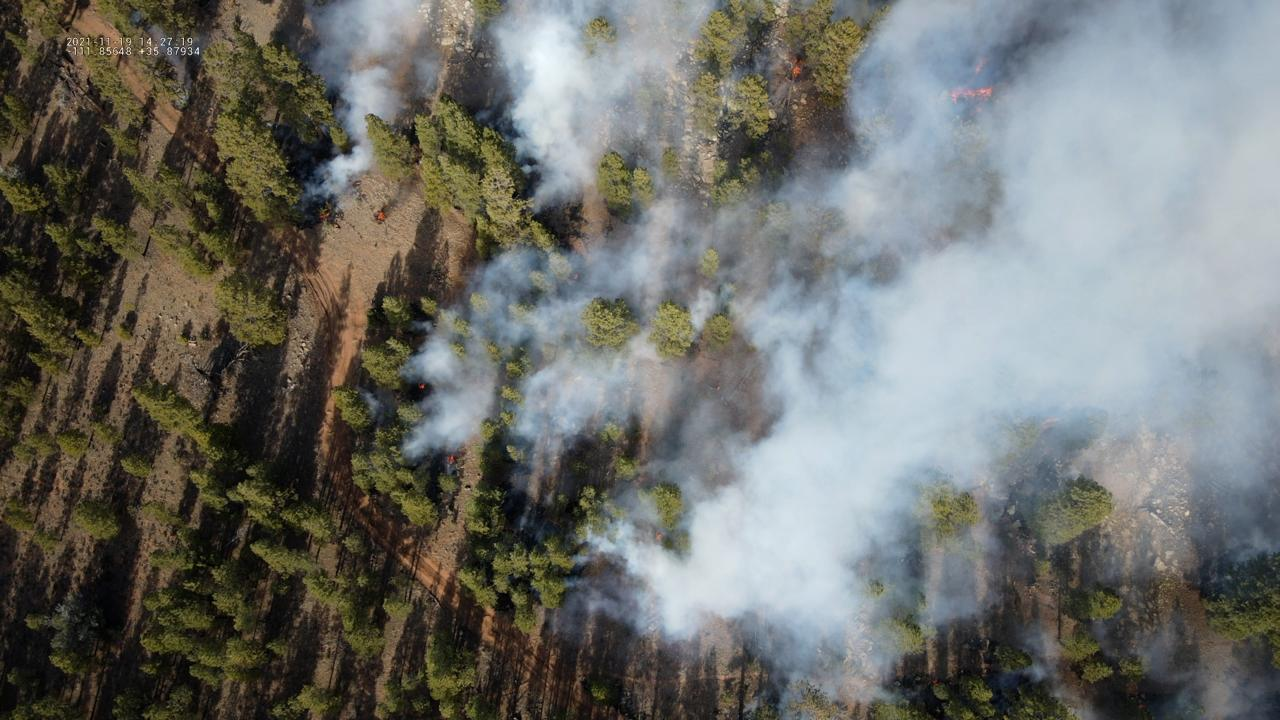fire: (950, 85, 993, 103), (1040, 416, 1057, 432), (791, 64, 802, 76), (445, 454, 455, 465), (377, 211, 386, 222), (974, 64, 982, 74), (417, 382, 425, 390), (319, 214, 326, 221), (655, 533, 662, 540), (573, 273, 579, 279), (932, 679, 938, 684)
smoke: (292, 0, 1280, 720), (147, 24, 216, 87), (129, 9, 142, 26)
